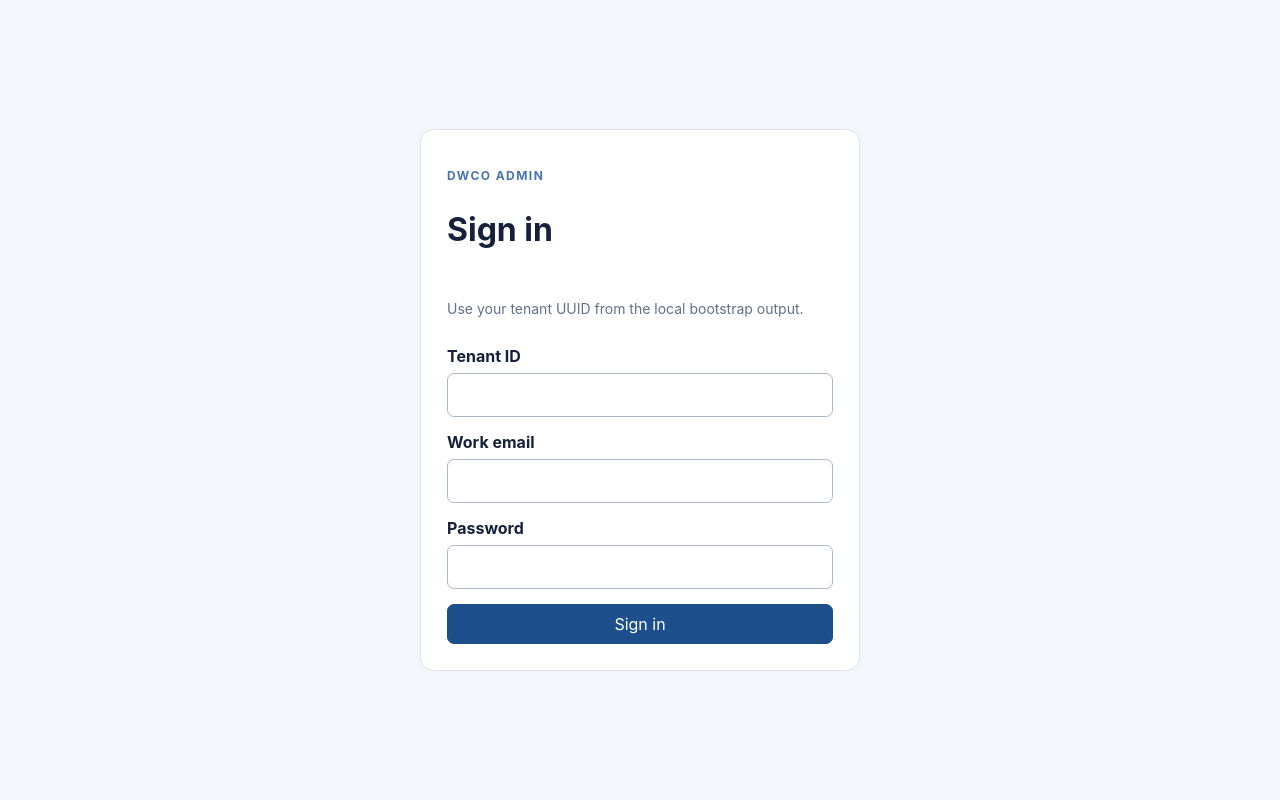
Test: AdminShell › shows only server-authorized navigation after login
The width and height of the screenshot is (1280, 800).
Type "tenant-a" into the field labelled "Tenant ID" at (640, 395), box [447,373,833,417]
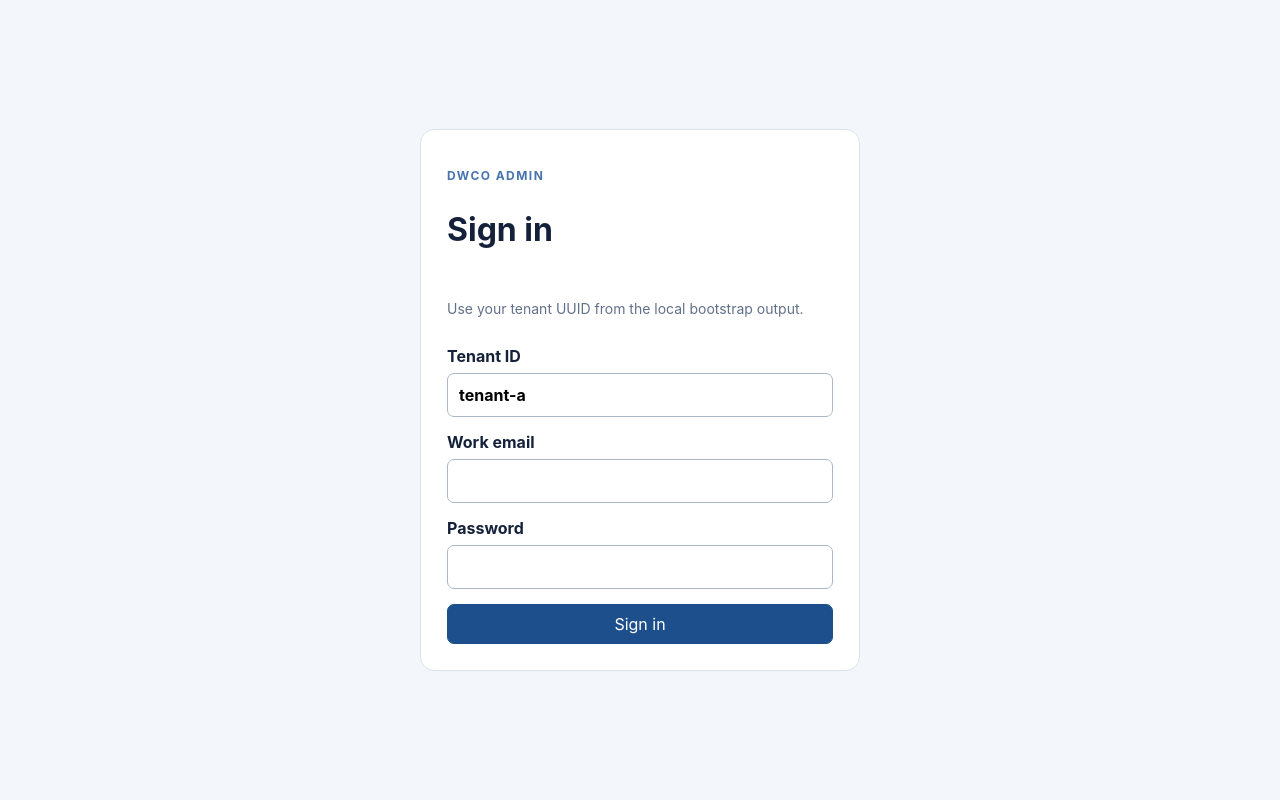
Type "viewer@example.com" into the field labelled "Work email" at (640, 481), box [447,459,833,503]
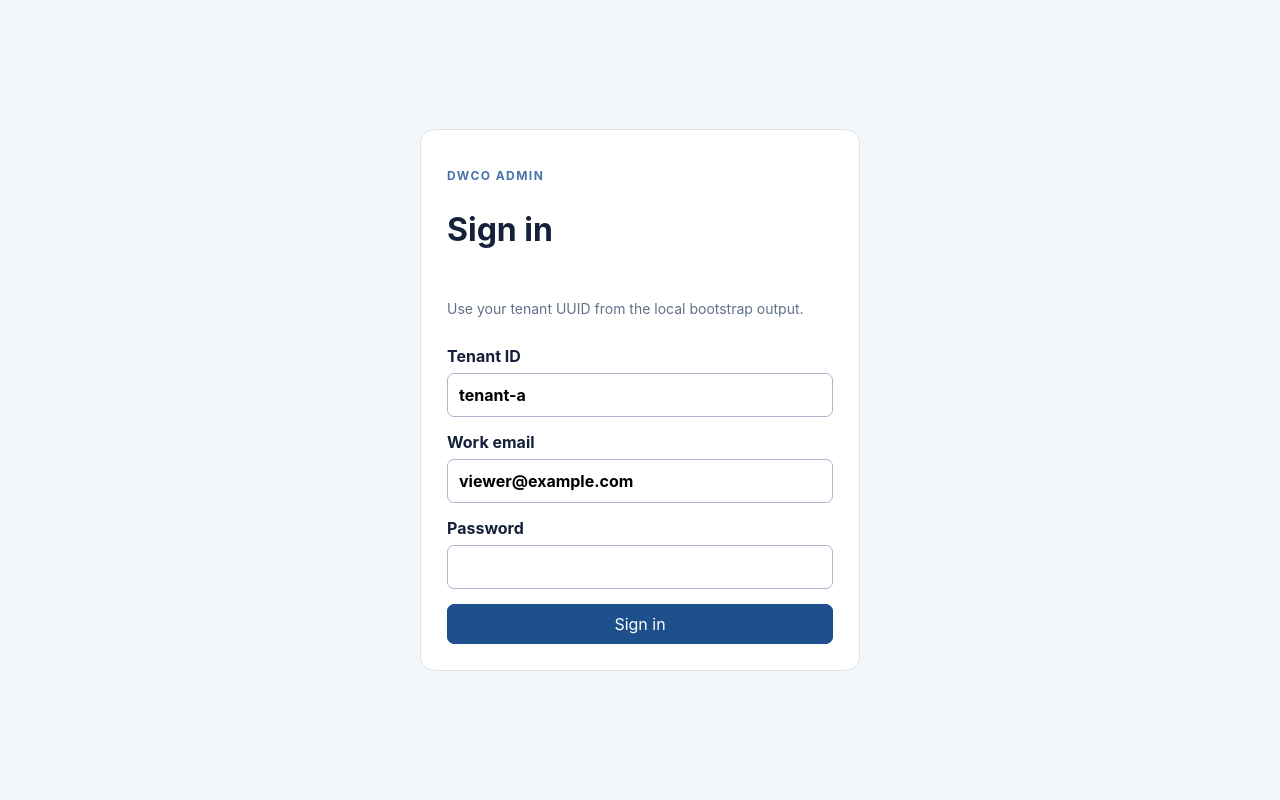
Type "correct-password" into the password field labelled "Password" at (640, 567), box [447,545,833,589]
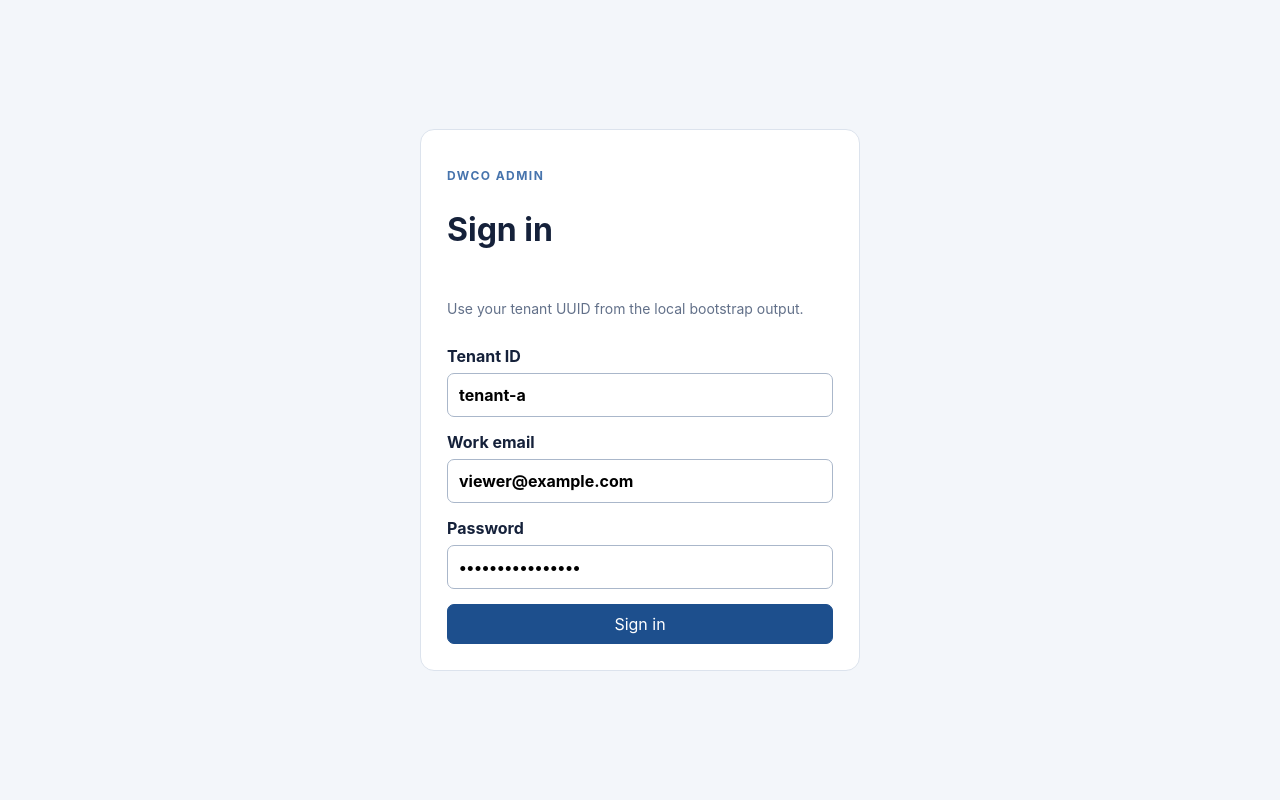
Click the button "Sign in" at (640, 624), box [447,604,833,644]
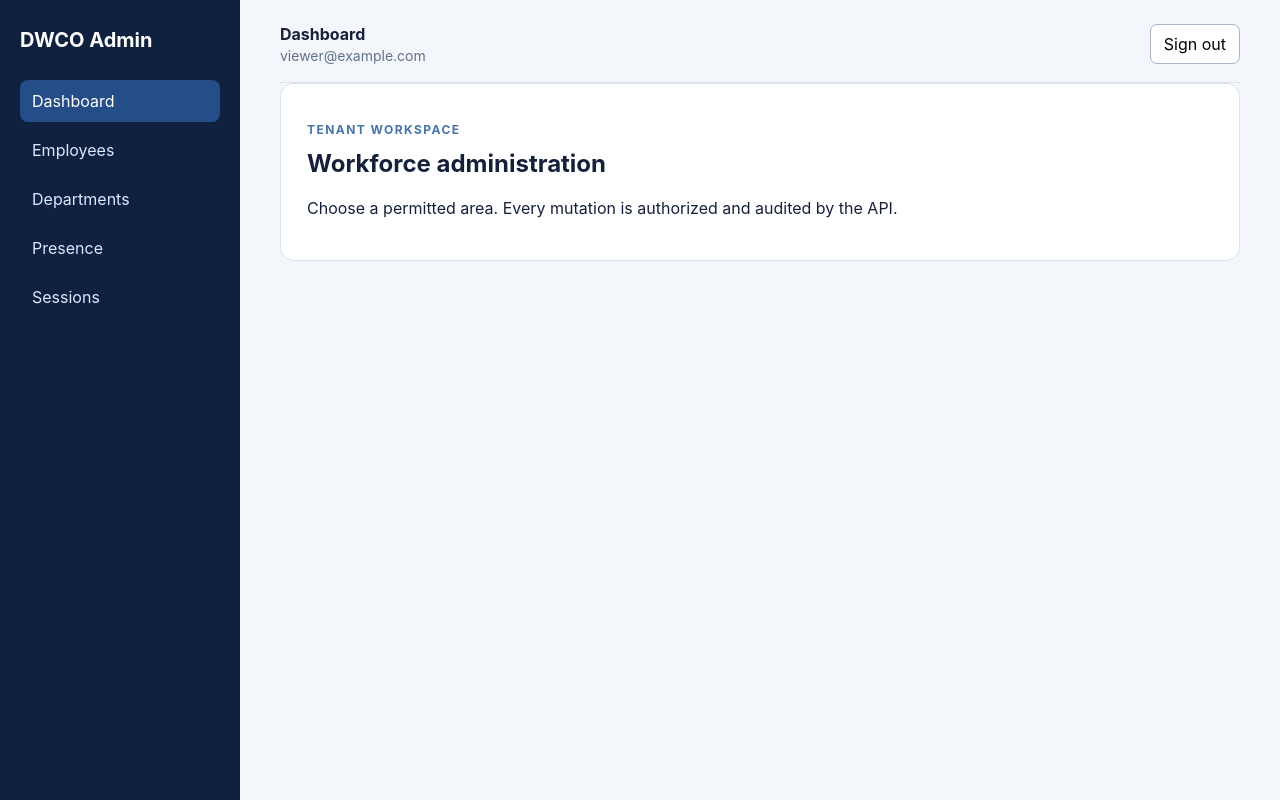
Expected: the navigation bar named "Administration" is shown, [20,80,220,318]
Expected: the button "Employees" is shown, [20,129,220,171]
Expected: the button "Departments" is shown, [20,178,220,220]
